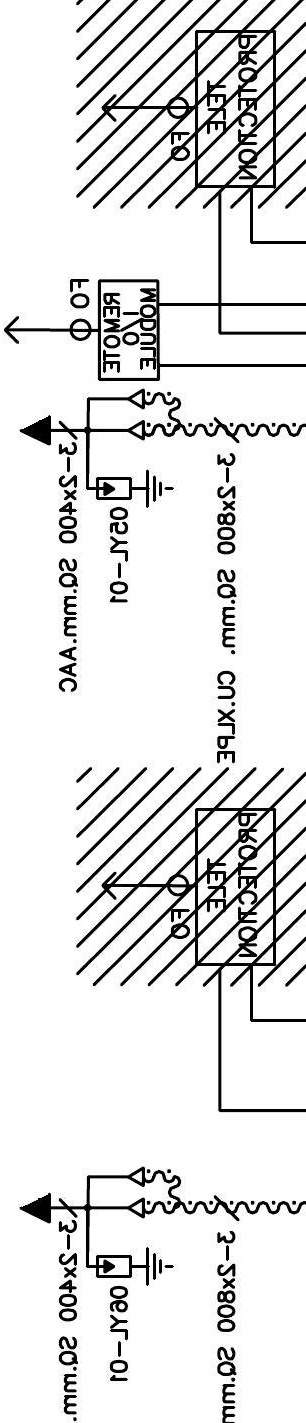115_la: (95, 1246, 175, 1287), (95, 469, 175, 509)
remote_io_module: (96, 277, 162, 383)
tele_protection: (192, 805, 279, 969), (193, 27, 279, 190)
terminator_double: (86, 387, 146, 442), (86, 1166, 147, 1220)
